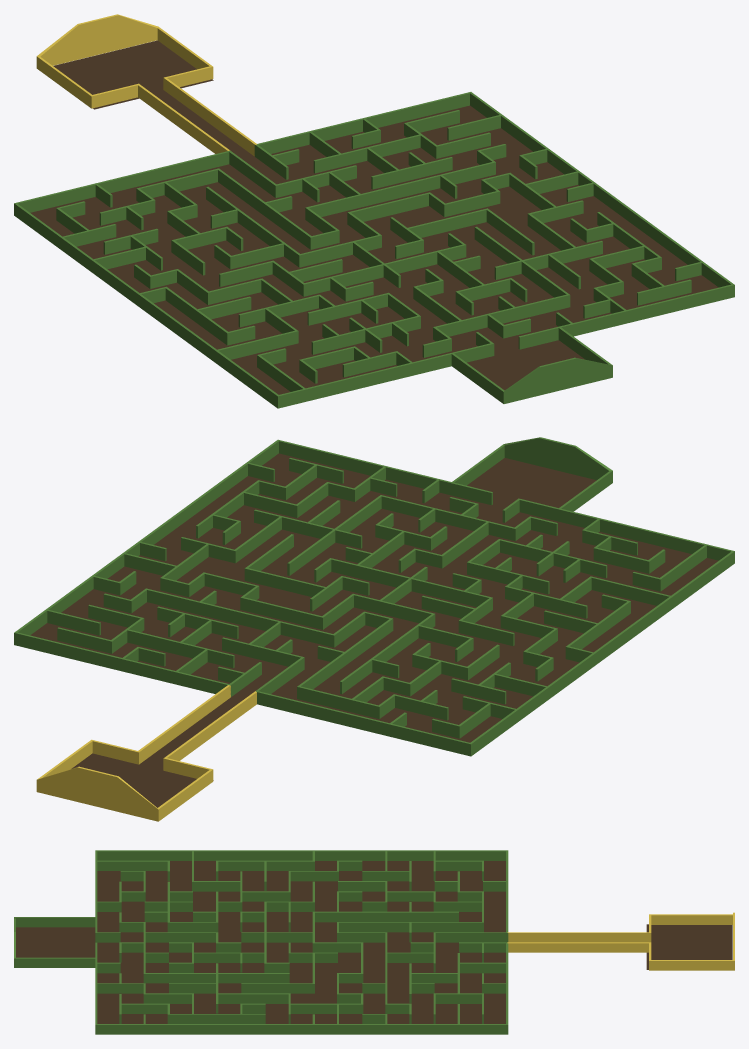
Rendered from maze.gltf.
The picture shows the model from 3 angles, top to bottom: view 1: azimuth 30°, elevation 25°; view 2: azimuth 150°, elevation 25°; view 3: azimuth 270°, elevation 25°; orthographic projection. The views are drawn at different scales.
Visible parts, largest first — view 1: Walls, Ground, Winning Walls, Winning Ground; view 2: Walls, Ground, Winning Walls, Winning Ground; view 3: Walls, Ground, Winning Walls, Winning Ground.
Part boxes in pixels (x1,y1,x2,y2): Walls: [14, 92, 734, 408]; Ground: [30, 105, 718, 394]; Winning Walls: [36, 14, 256, 156]; Winning Ground: [53, 40, 254, 159]; Walls: [14, 437, 734, 756]; Ground: [30, 453, 718, 742]; Winning Walls: [36, 685, 256, 821]; Winning Ground: [71, 697, 242, 807]; Walls: [14, 850, 508, 1034]; Ground: [16, 861, 505, 1023]; Winning Walls: [507, 912, 734, 970]; Winning Ground: [646, 924, 732, 969].
Bounding box in the file's own units: 9.85 × 0.7107 × 17.2.
